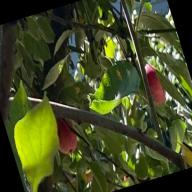Apples: (137, 61, 168, 107), (49, 112, 80, 155)
